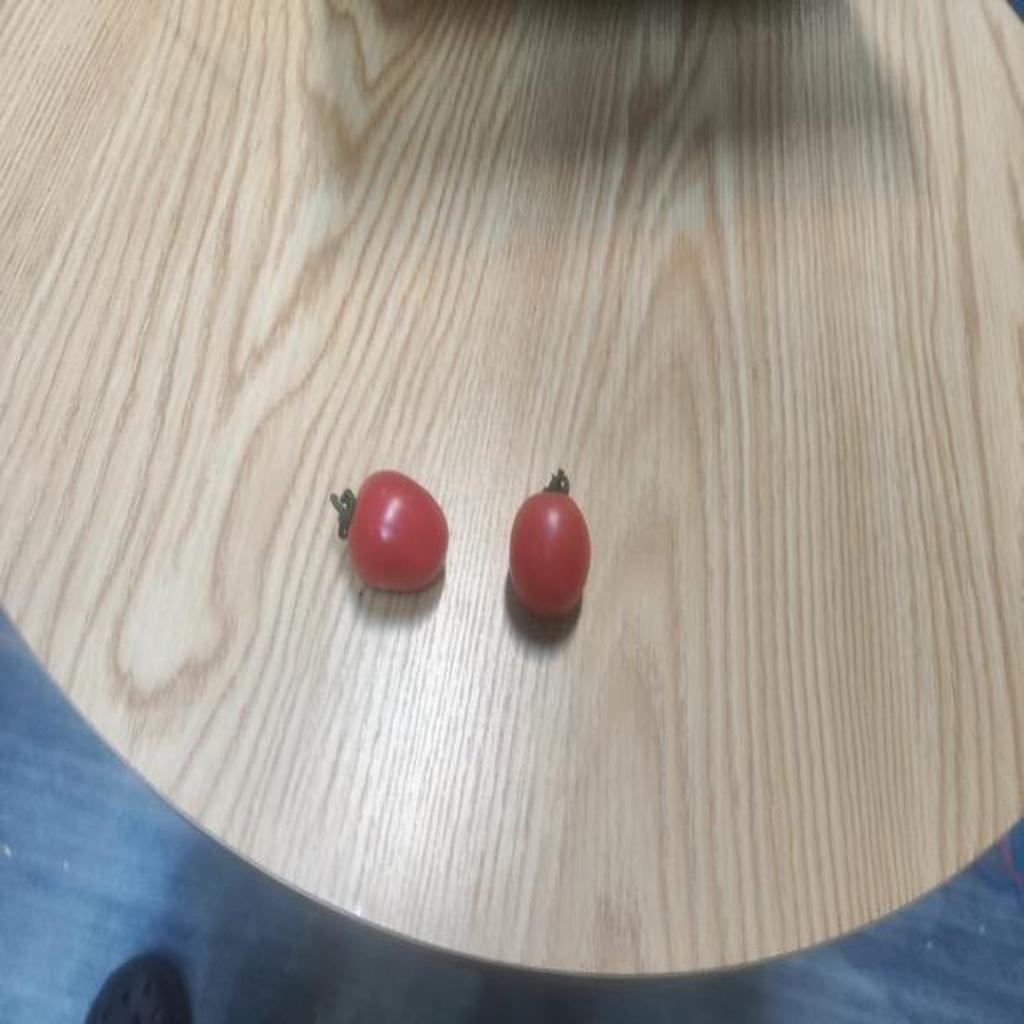tomato: (335, 477, 454, 601), (507, 485, 590, 627)
